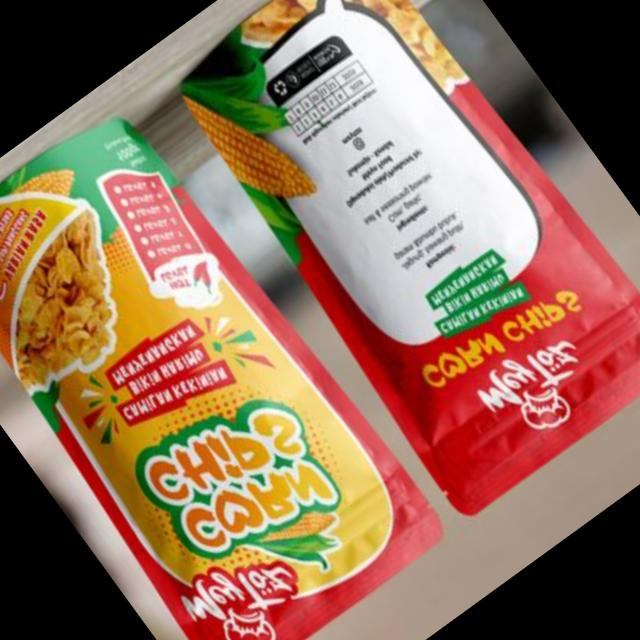KemasanPlastik: (146, 0, 640, 526), (0, 87, 453, 640)
